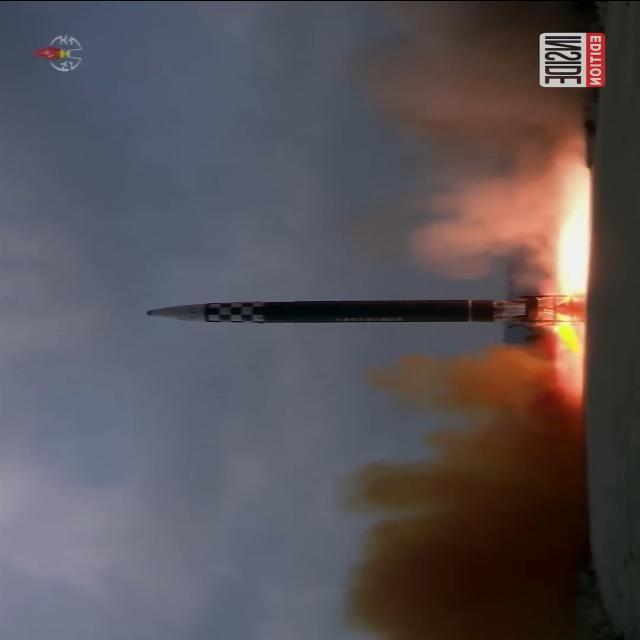missile: (120, 292, 516, 326)
